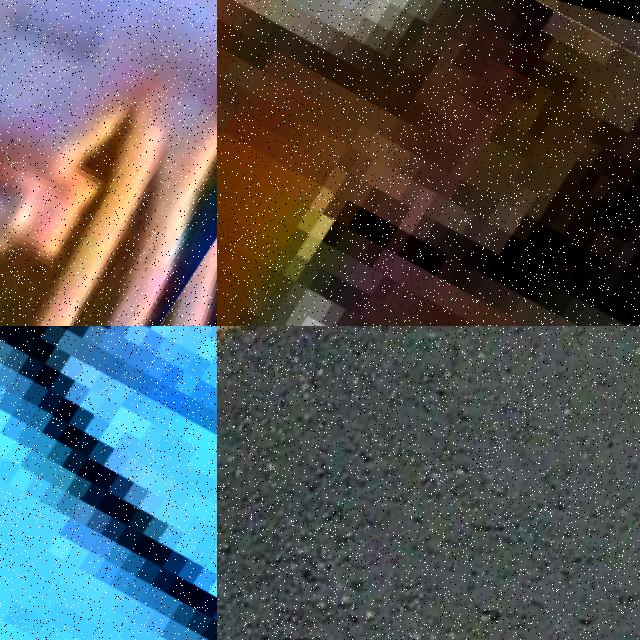drone: (217, 0, 640, 326), (0, 0, 217, 326), (0, 326, 217, 640)
